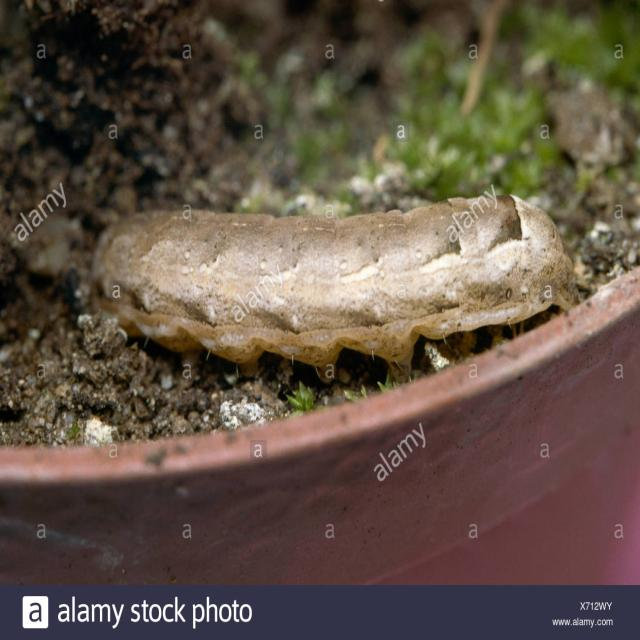Cutworm: (88, 201, 581, 375)
